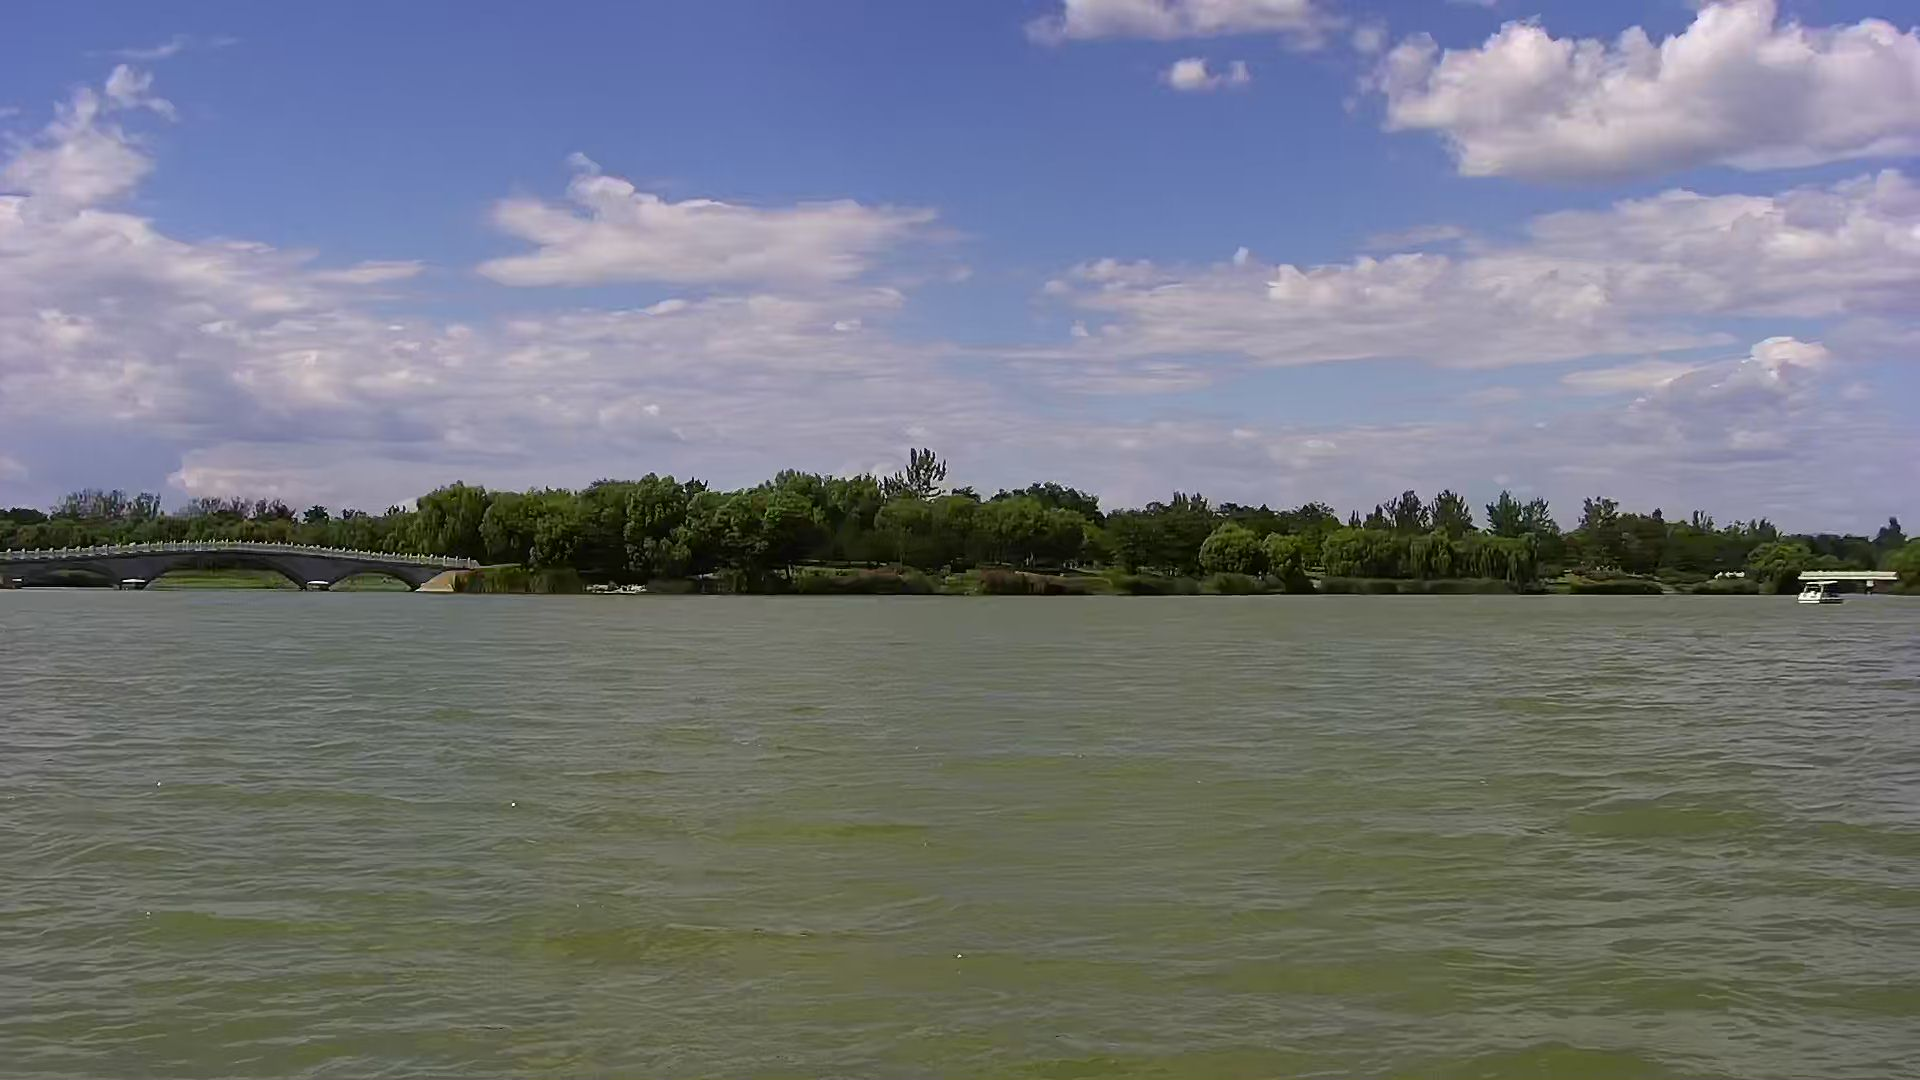boat: (1792, 562, 1851, 615)
bridge: (1, 535, 495, 603)
